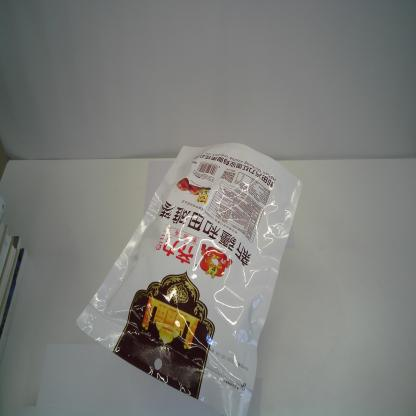Dried Food: (76, 142, 303, 416)
